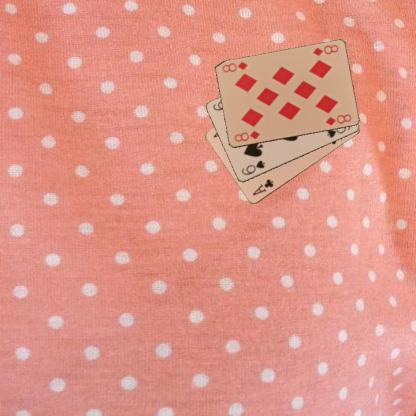6s: (238, 158, 266, 176)
8d: (232, 128, 261, 144), (310, 42, 339, 57)
Ac: (250, 177, 274, 197)
